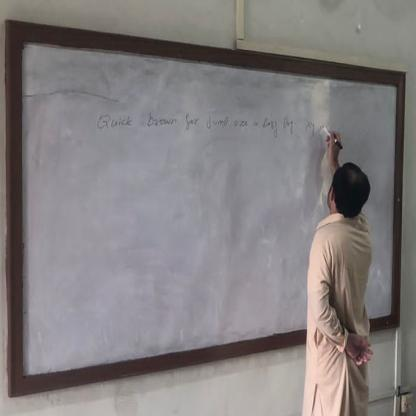Handwritten text: (94, 106, 328, 148)
Lecturer: (303, 152, 384, 361)
Whiteboard: (12, 35, 401, 386)
